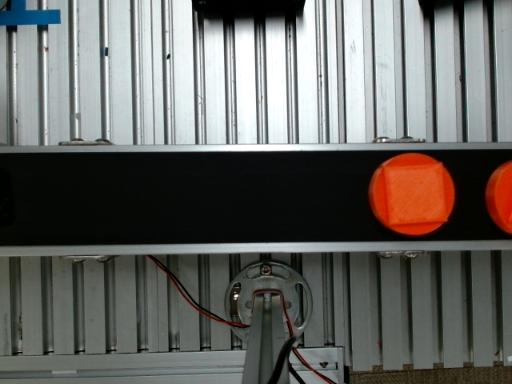Orange_Waper: (368, 153, 455, 235), (485, 161, 511, 234)
Square: (383, 162, 448, 226)
